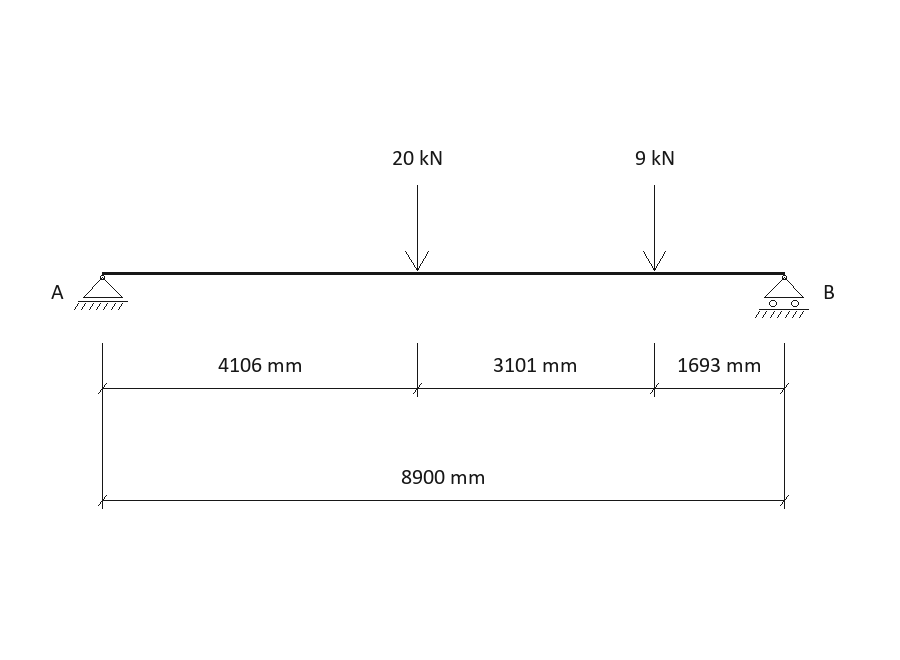pin_support: (74, 275, 128, 310)
point_load: (405, 185, 429, 271), (643, 185, 666, 271)
roller_support: (755, 275, 809, 318)
